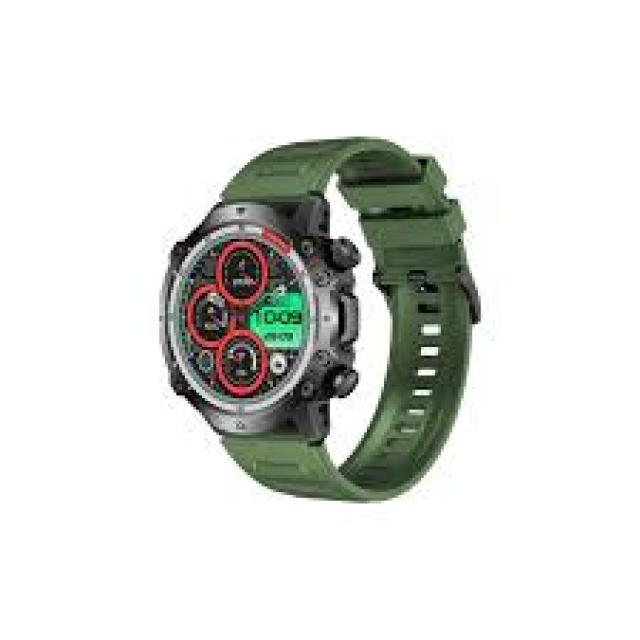objects: (159, 133, 485, 502)
